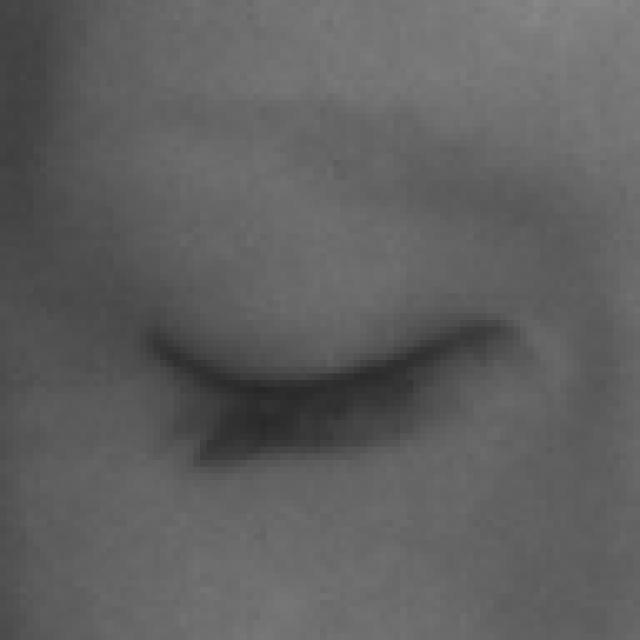Eyeclosed: (142, 238, 514, 545)
